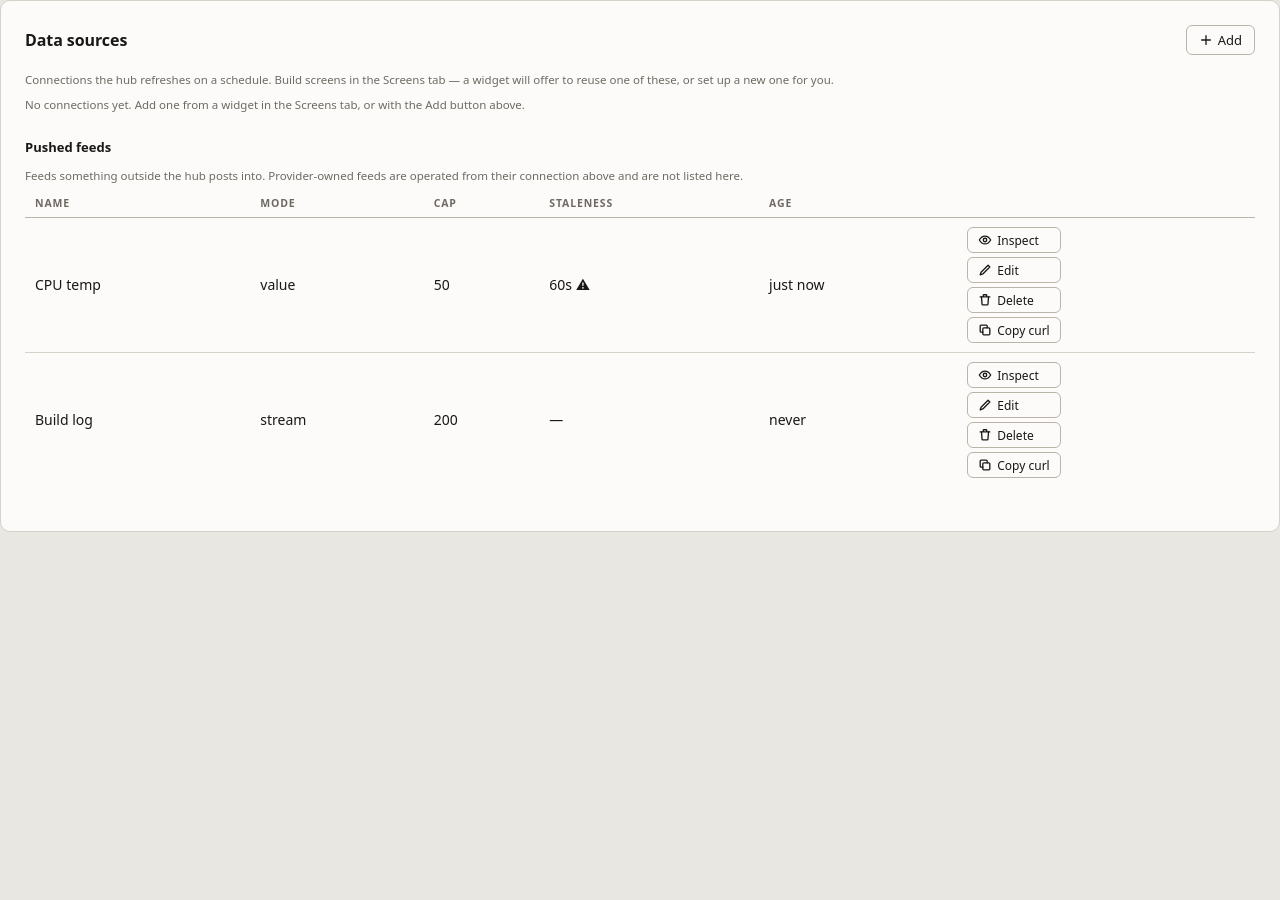
Feeds page › inspector shows the payload from GET one
This screenshot has width=1280, height=900.
Expected: the text "CPU temp" is shown, top-left (25, 217), bottom-right (250, 352)
Click the 1st button "Inspect" at (1014, 240), box top-left (967, 227), bottom-right (1061, 253)
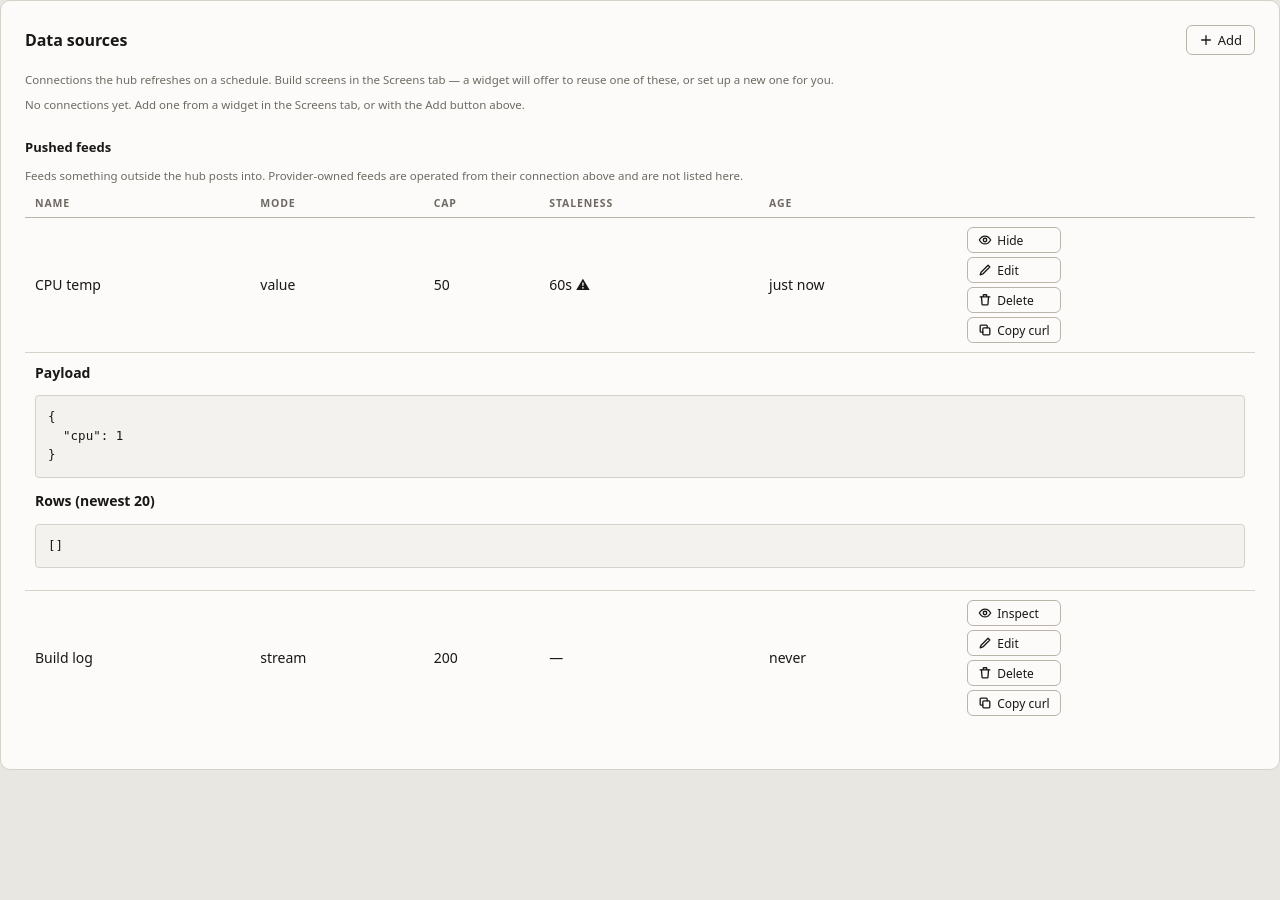
Result: the text "{ \"cpu\": 1 }" is shown at top-left (35, 395), bottom-right (1245, 478)
